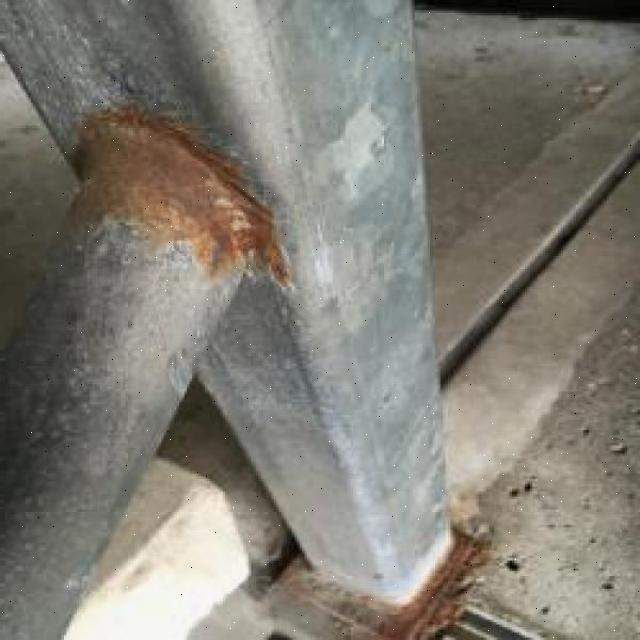crack: (436, 134, 638, 388)
